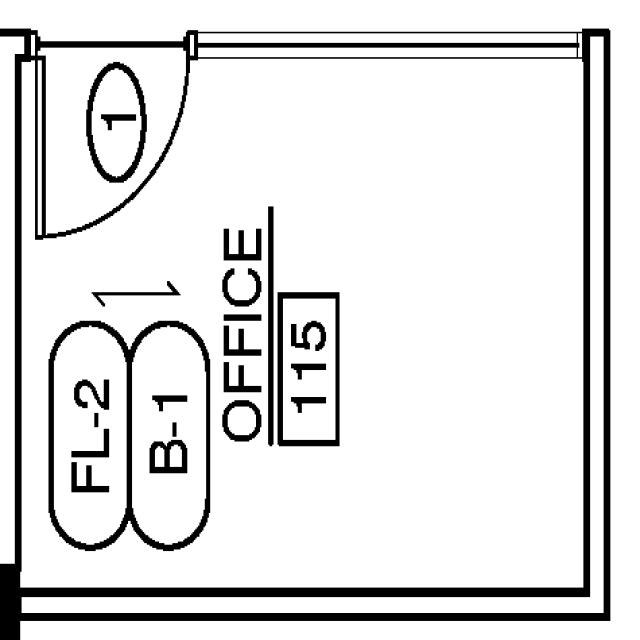Doors: (35, 29, 194, 247)
